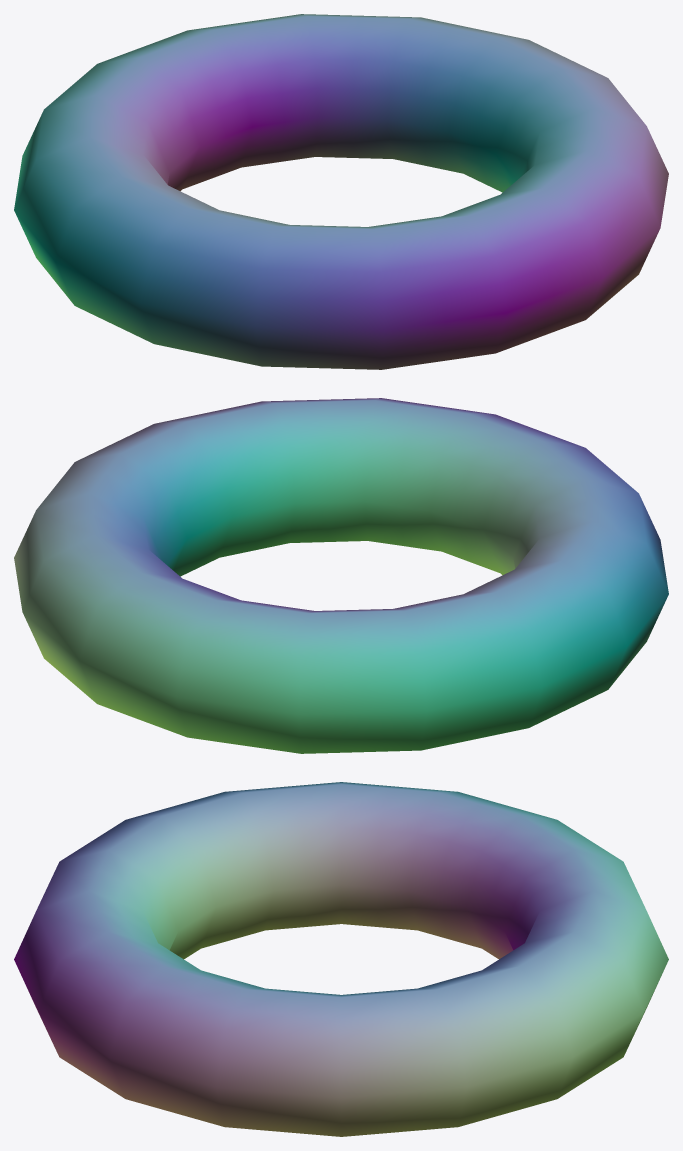
File: SuperToroid.fbx
3 views of the same model, one above another, from view 1: azimuth 30°, elevation 25°; view 2: azimuth 150°, elevation 25°; view 3: azimuth 270°, elevation 25° (orthographic).
Parts seen in each view (by area): view 1: SuperToroid; view 2: SuperToroid; view 3: SuperToroid.
Part boxes in pixels (x1,y1,x2,y2): SuperToroid: [14, 14, 668, 369]; SuperToroid: [14, 398, 668, 753]; SuperToroid: [14, 782, 668, 1136].
Bounding box in the file's own units: 260 × 60 × 260.
